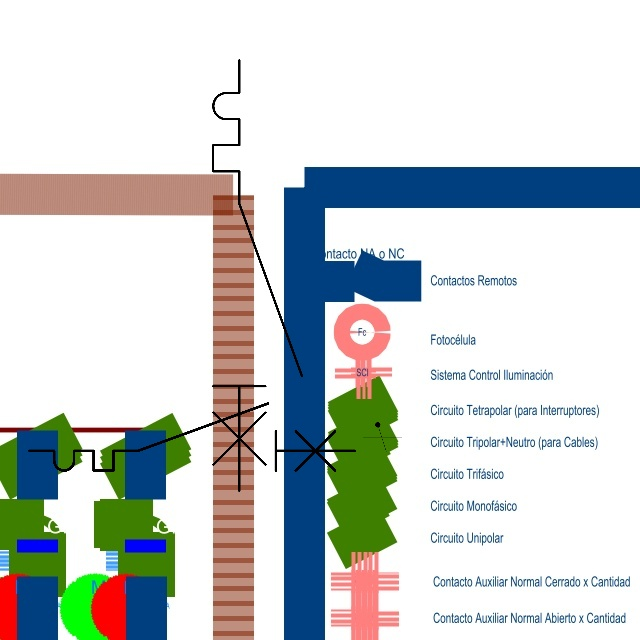interruptor_termomagnetico: (202, 49, 313, 502), (21, 395, 363, 479)
